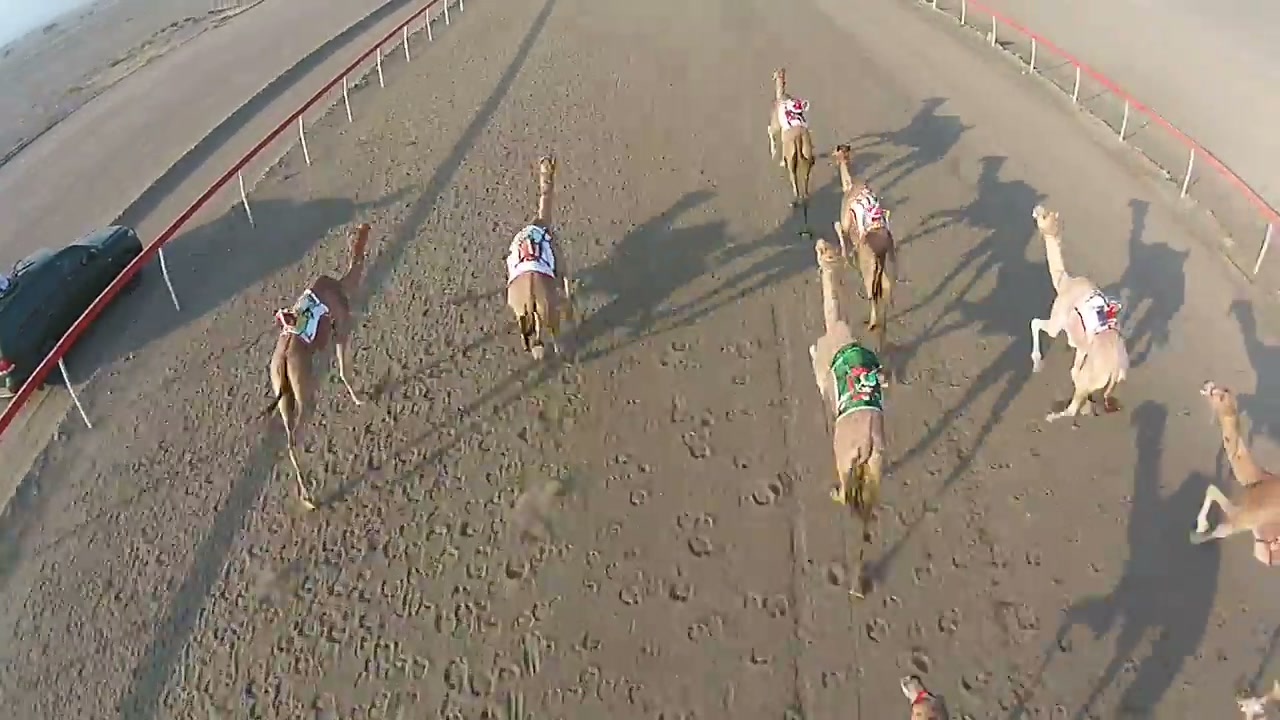animal_foot_print: (164, 309, 809, 719), (864, 406, 1070, 709)
